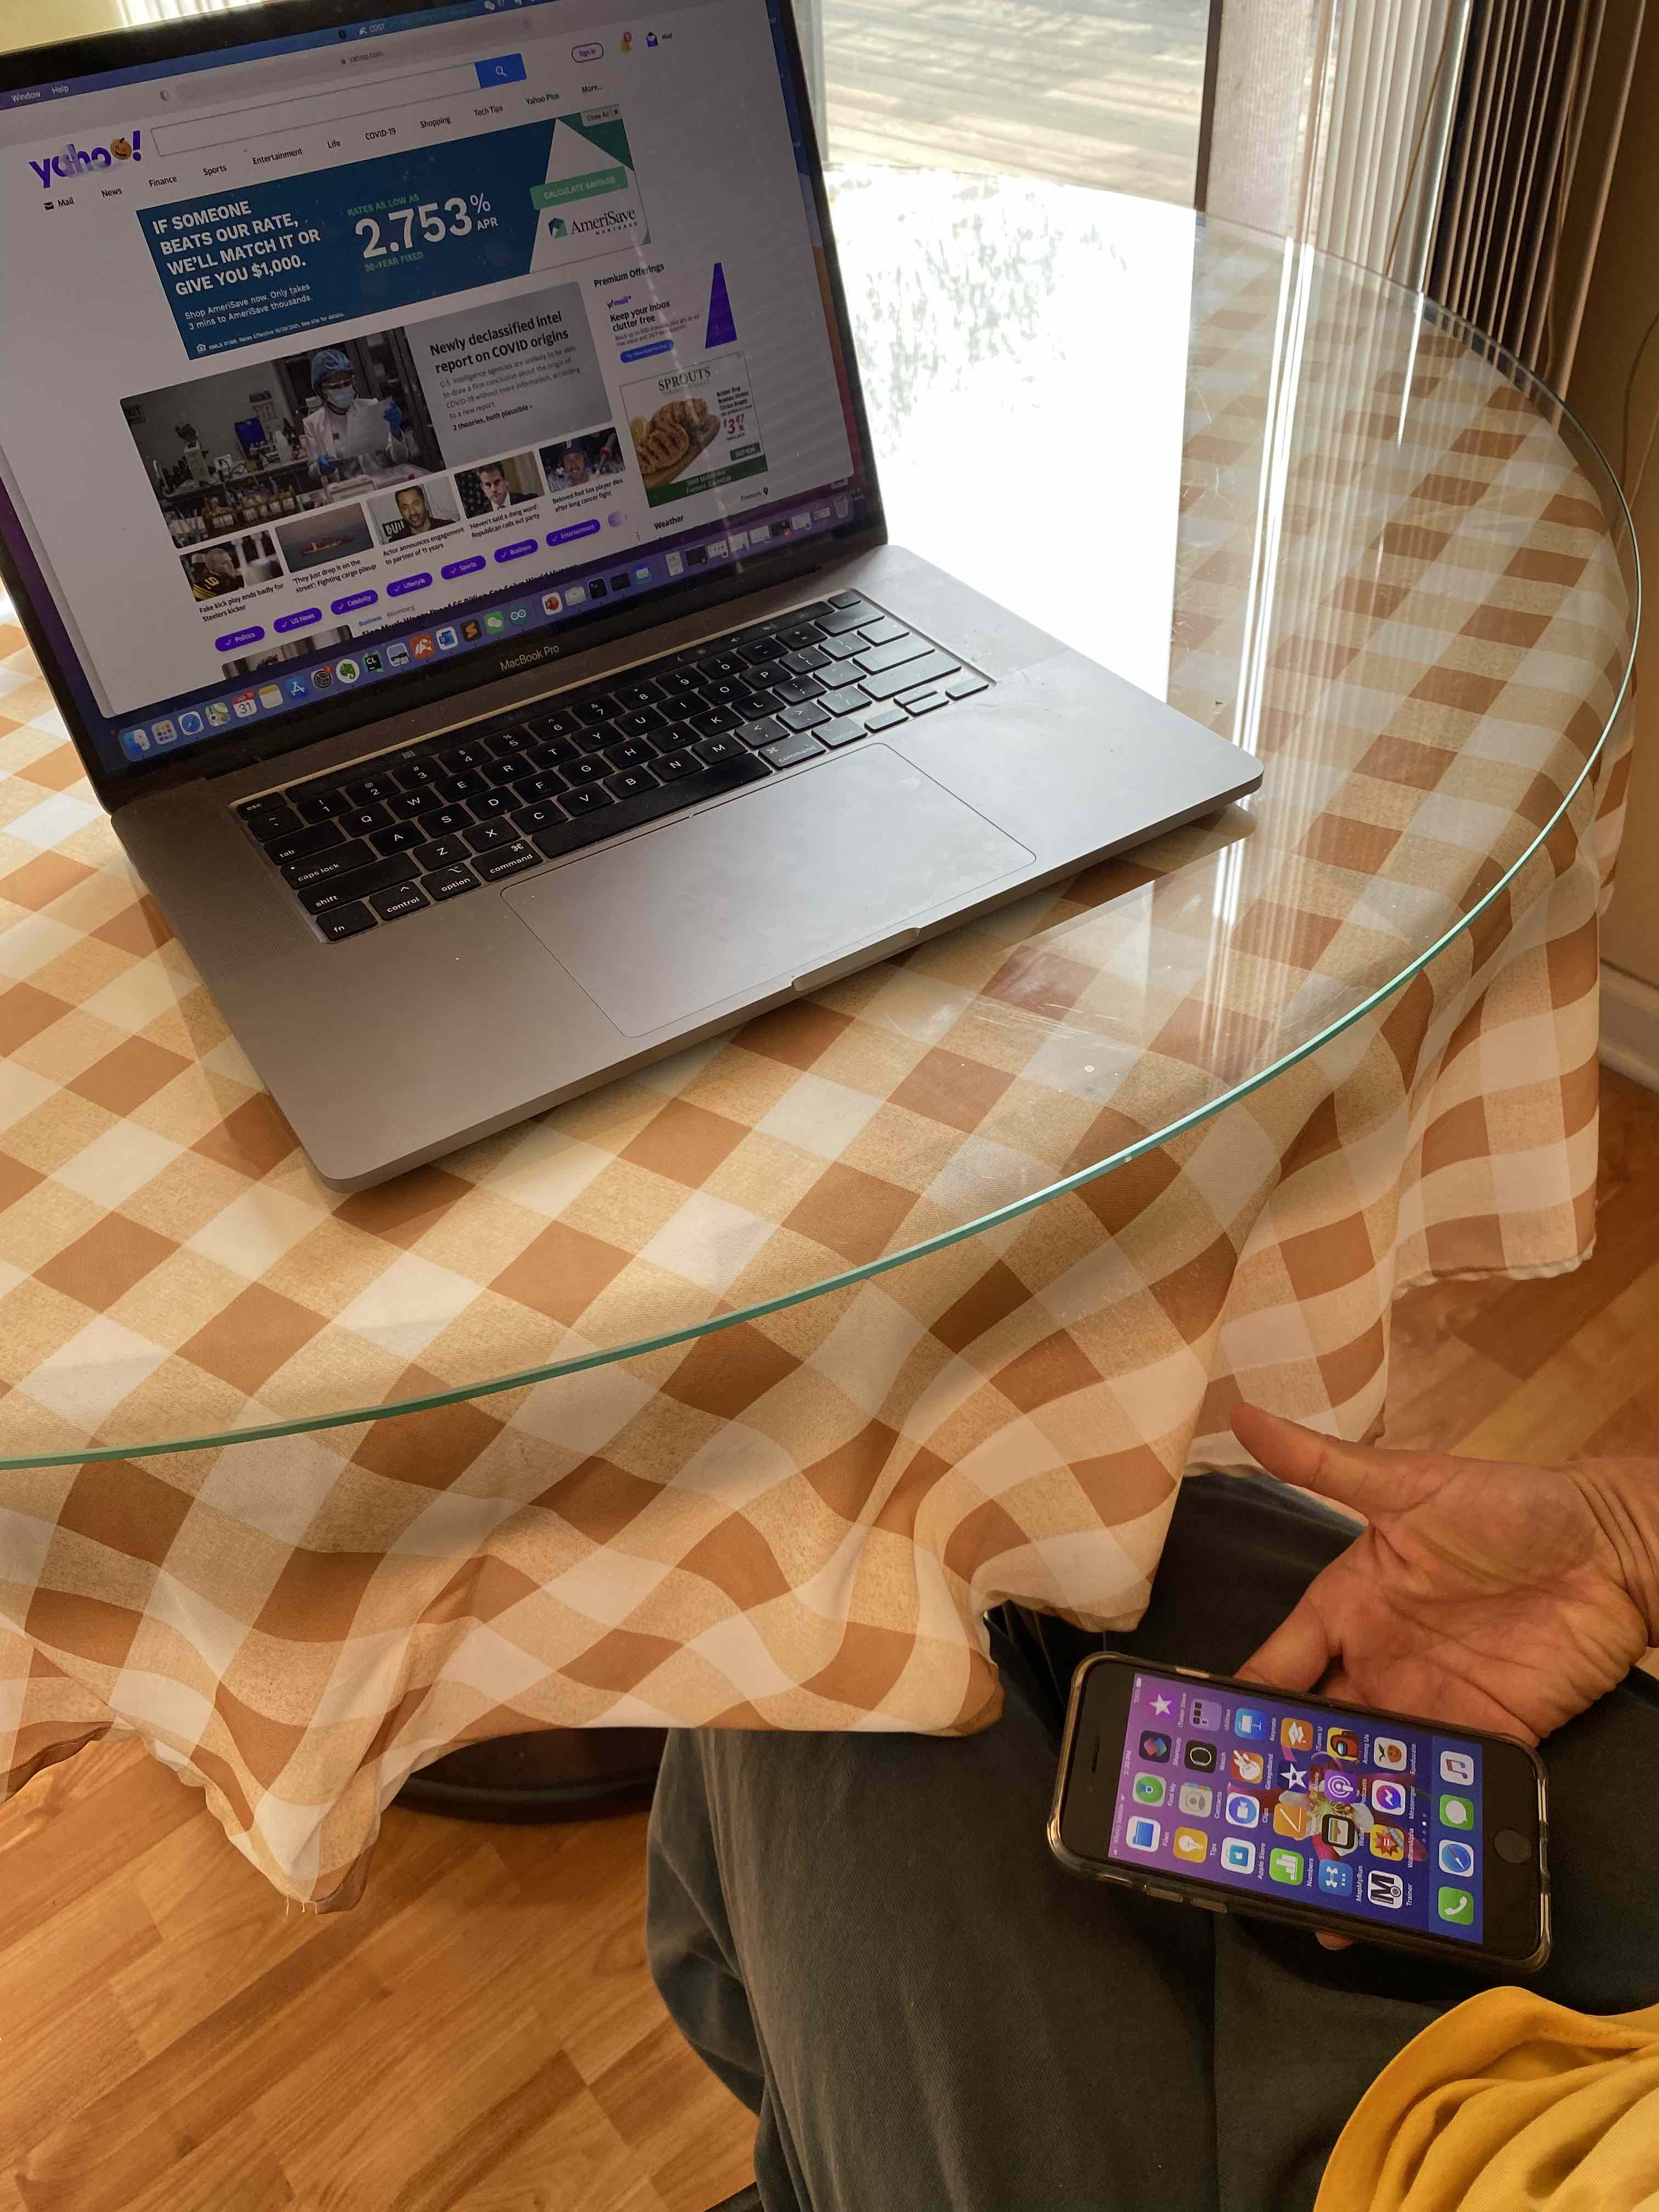Cell Phone: (1047, 1648, 1565, 1966)
